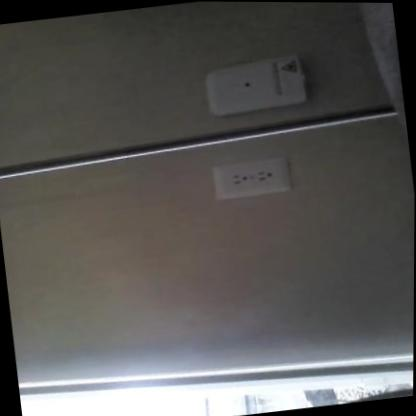OUTLET: (210, 155, 290, 199)
